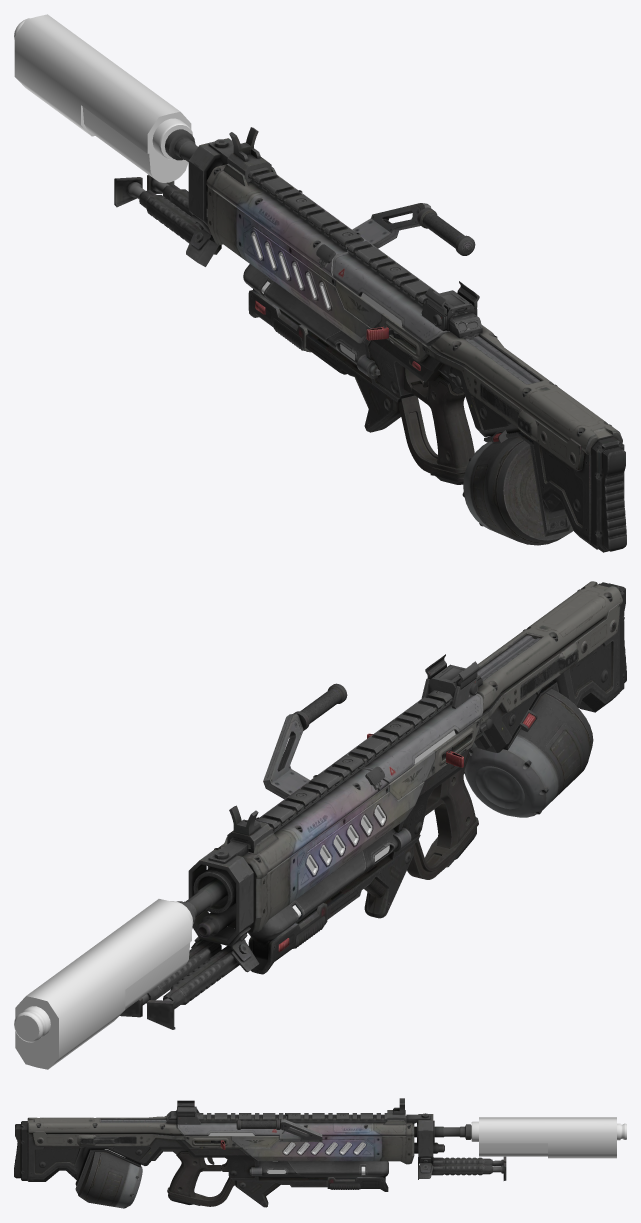
Rendered from apex_rampage.glb.
3 renders of one model, top to bottom at view 1: azimuth 30°, elevation 25°; view 2: azimuth 150°, elevation 25°; view 3: azimuth 270°, elevation 25°, orthographic. The views are drawn at different scales.
Visible parts, largest first — view 1: body__tex_apex_rampage_1, barrel__polymer_5, mag__tex_apex_rampage_m0, irons__tex_apex_rampage_4, body__polymer_3; view 2: body__tex_apex_rampage_1, barrel__polymer_5, mag__tex_apex_rampage_m0, irons__tex_apex_rampage_4, body__polymer_3; view 3: body__tex_apex_rampage_1, barrel__polymer_5, mag__tex_apex_rampage_m0, irons__tex_apex_rampage_4, body__polymer_3.
Boxes of the visible parts, bbox=[...] form: body__tex_apex_rampage_1: bbox=[114, 129, 626, 552]; barrel__polymer_5: bbox=[14, 14, 192, 182]; mag__tex_apex_rampage_m0: bbox=[462, 436, 573, 545]; irons__tex_apex_rampage_4: bbox=[227, 127, 479, 331]; body__polymer_3: bbox=[251, 232, 402, 360]; body__tex_apex_rampage_1: bbox=[120, 581, 626, 1029]; barrel__polymer_5: bbox=[14, 899, 193, 1069]; mag__tex_apex_rampage_m0: bbox=[464, 689, 593, 817]; irons__tex_apex_rampage_4: bbox=[227, 654, 479, 852]; body__polymer_3: bbox=[292, 730, 455, 917]; body__tex_apex_rampage_1: bbox=[14, 1111, 506, 1207]; barrel__polymer_5: bbox=[471, 1117, 626, 1158]; mag__tex_apex_rampage_m0: bbox=[78, 1152, 142, 1208]; irons__tex_apex_rampage_4: bbox=[176, 1098, 405, 1124]; body__polymer_3: bbox=[208, 1132, 365, 1174].
Bounding box in the file's own units: 0.1544 × 0.2455 × 1.3.
Materials: 2 (1 with a texture image).
